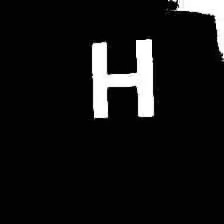LTR_H: (84, 33, 162, 125)
